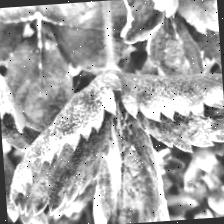Powdery Mildew Leaf: (0, 65, 131, 218), (81, 89, 170, 224), (113, 56, 224, 157), (0, 5, 48, 151), (1, 122, 49, 224), (108, 0, 182, 45)
